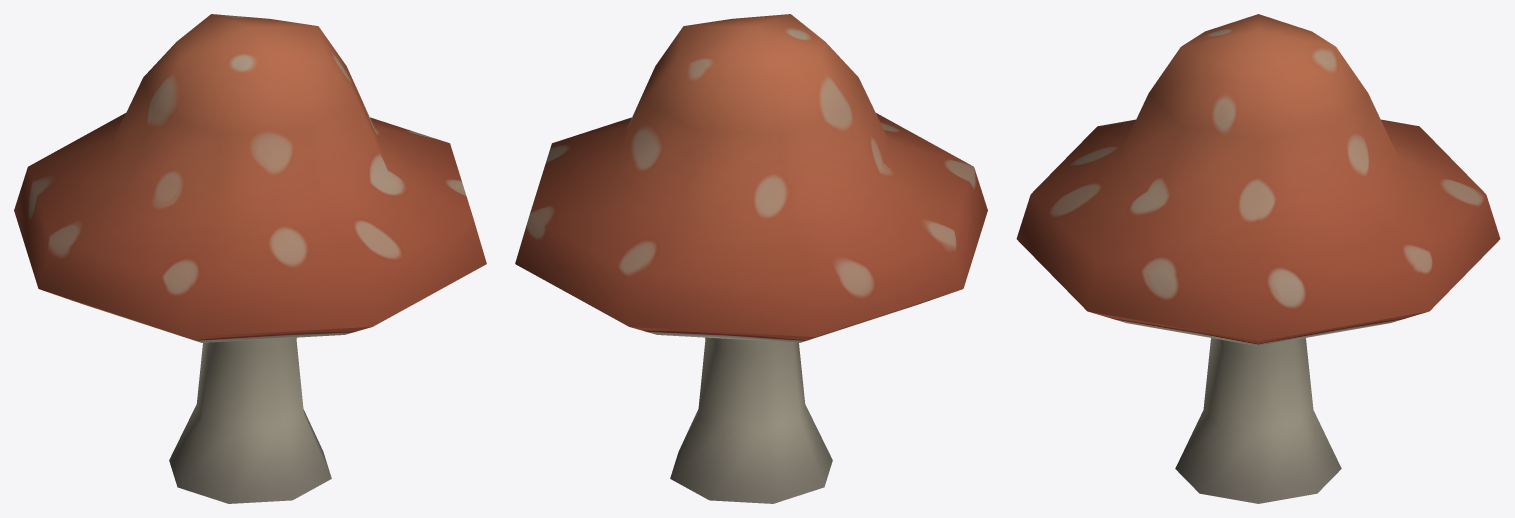
The model's file is Mushroom #1.fbx.
The picture shows the model from 3 angles, left to right: view 1: azimuth 30°, elevation 25°; view 2: azimuth 150°, elevation 25°; view 3: azimuth 270°, elevation 25°; orthographic projection.
Parts seen in each view (by area): view 1: Mushroom #1; view 2: Mushroom #1; view 3: Mushroom #1.
Part boxes in pixels (bbox=[...]): Mushroom #1: bbox=[14, 14, 486, 503]; Mushroom #1: bbox=[515, 14, 987, 503]; Mushroom #1: bbox=[1016, 14, 1500, 503].
Size of the model in its own units: 36.97 by 36.84 by 36.97.
Materials: 1 (1 with a texture image).
